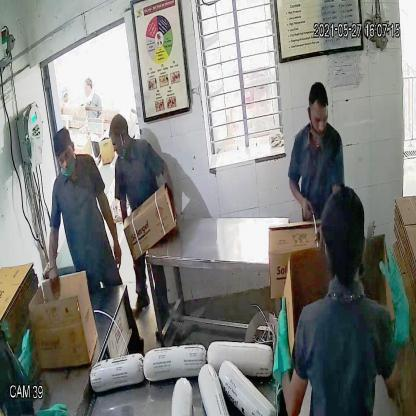no_goggles: (306, 103, 328, 129), (53, 148, 77, 171)
